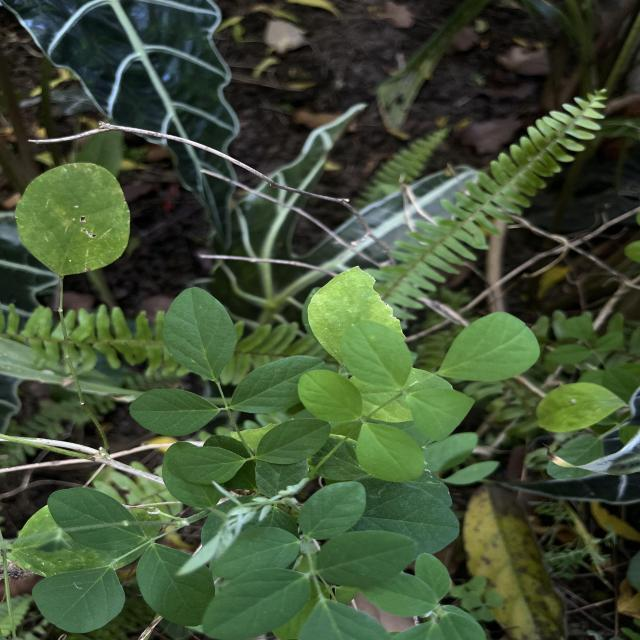Clitoria ternatea: (160, 286, 240, 382), (31, 566, 126, 634), (127, 388, 220, 438), (255, 417, 332, 465), (166, 446, 246, 486)
